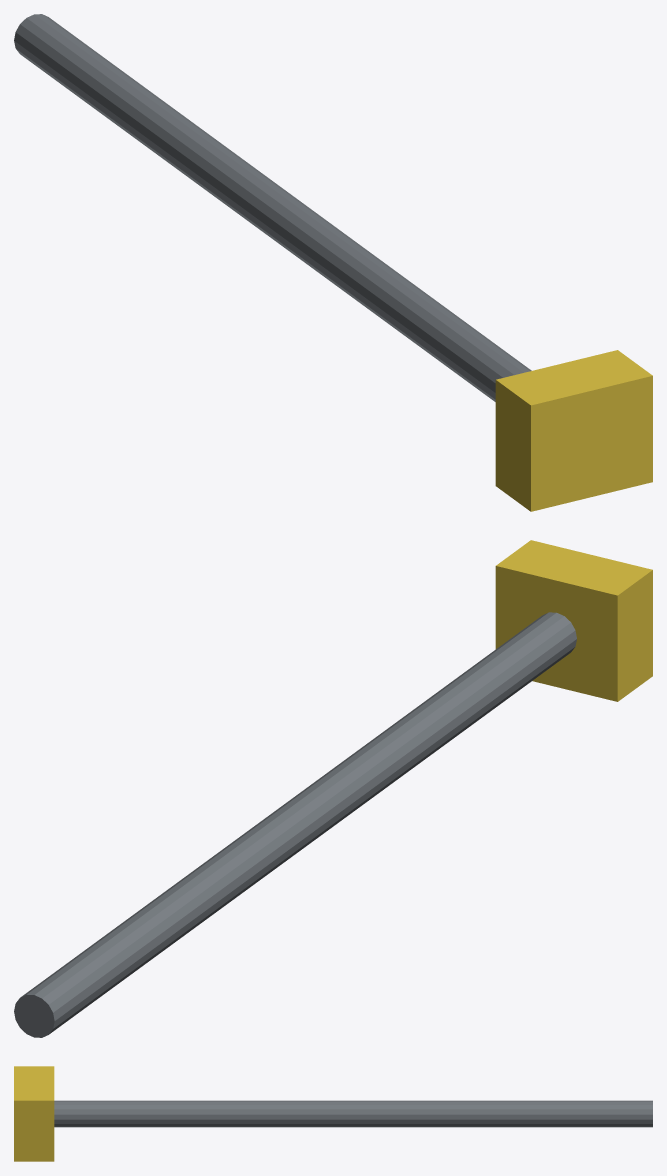
Rendered from light_post.glb.
3 renders of one model, top to bottom at view 1: azimuth 30°, elevation 25°; view 2: azimuth 150°, elevation 25°; view 3: azimuth 270°, elevation 25°, orthographic. The views are drawn at different scales.
Visible parts, largest first — view 1: g0_pole, g1_lamp; view 2: g0_pole, g1_lamp; view 3: g0_pole, g1_lamp.
Boxes of the visible parts, x1=… form: g0_pole: x1=14, y1=14, x2=531, y2=401; g1_lamp: x1=495, y1=350, x2=652, y2=511; g0_pole: x1=14, y1=612, x2=576, y2=1037; g1_lamp: x1=495, y1=540, x2=652, y2=701; g0_pole: x1=54, y1=1100, x2=652, y2=1127; g1_lamp: x1=14, y1=1066, x2=54, y2=1161.
Bounding box in the file's own units: 0.3 × 0.25 × 2.38.
